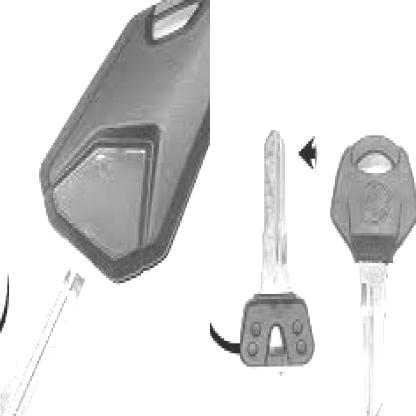key: (0, 0, 210, 416), (240, 130, 315, 372)
